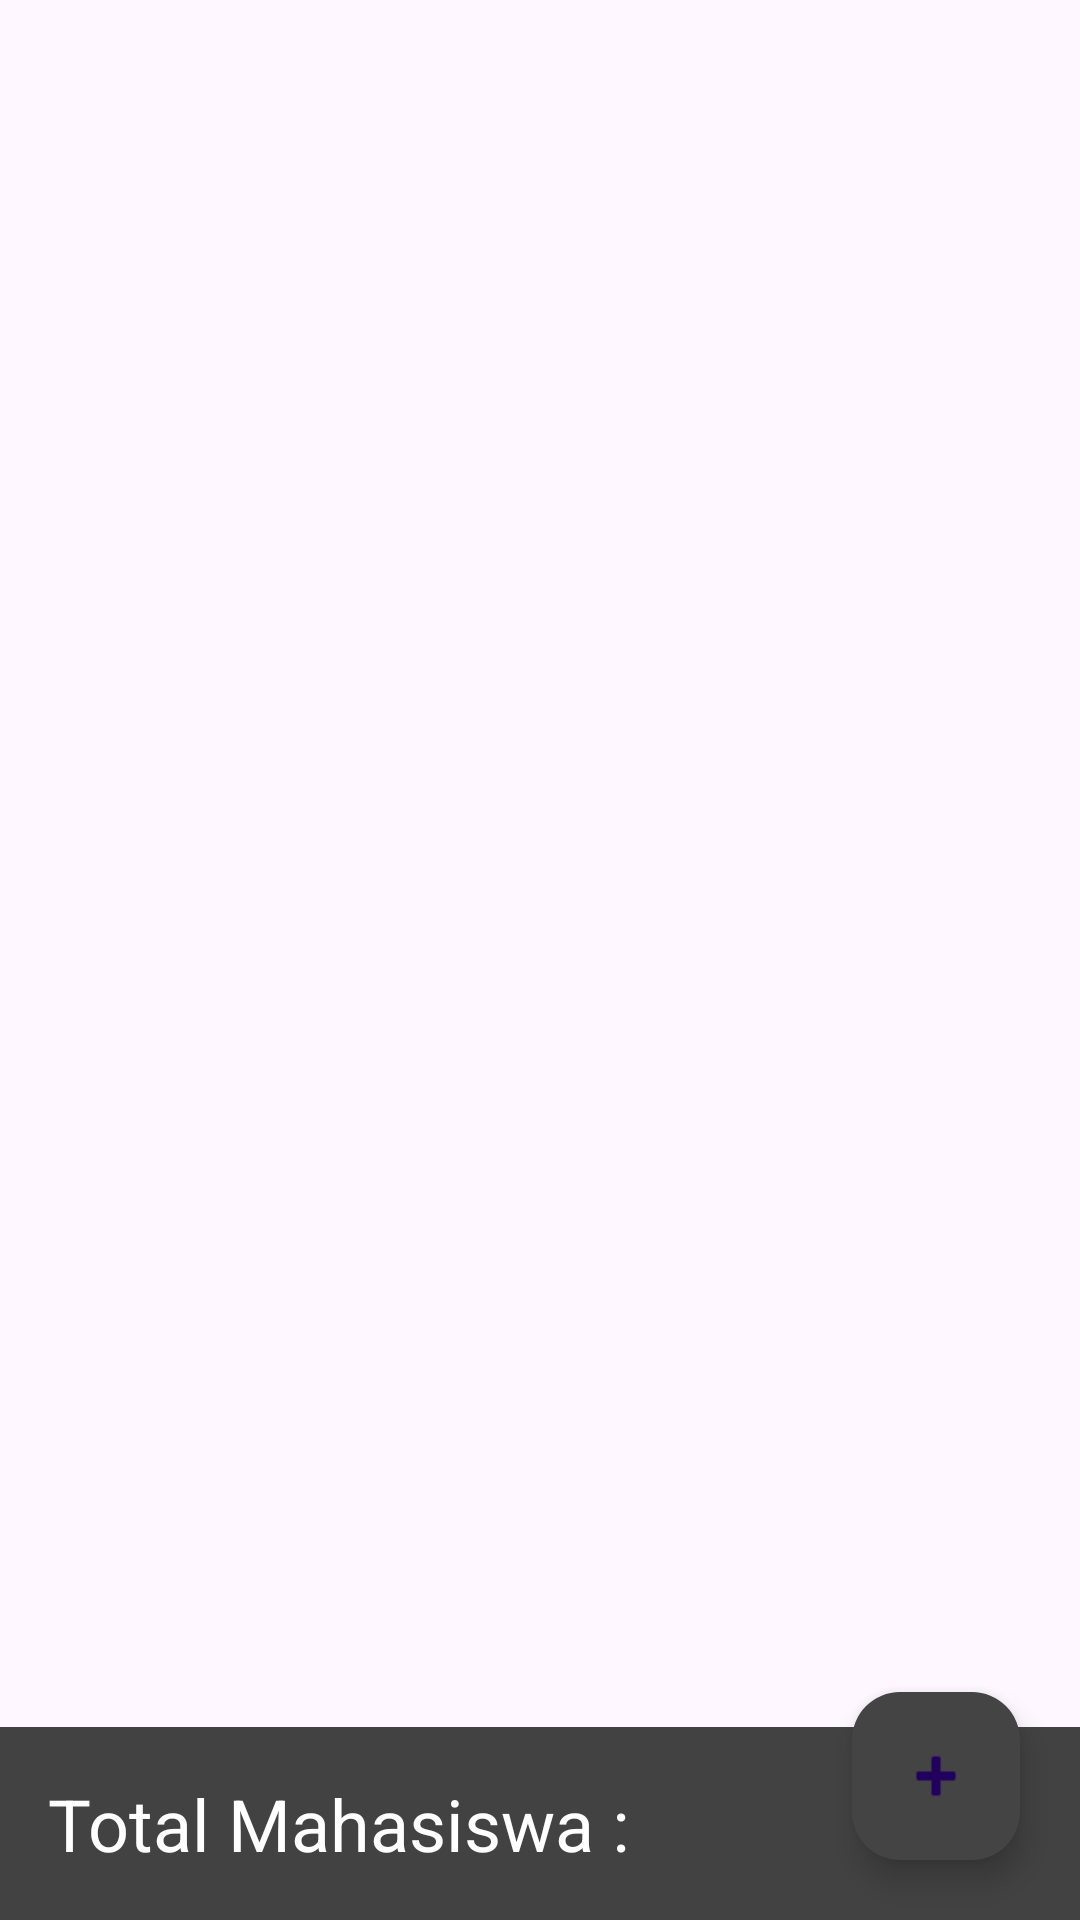

Point at icon controls on the screen. Image size 1080×1920, points as (x=x, y=y).
Record Baru: (x=936, y=1743)
